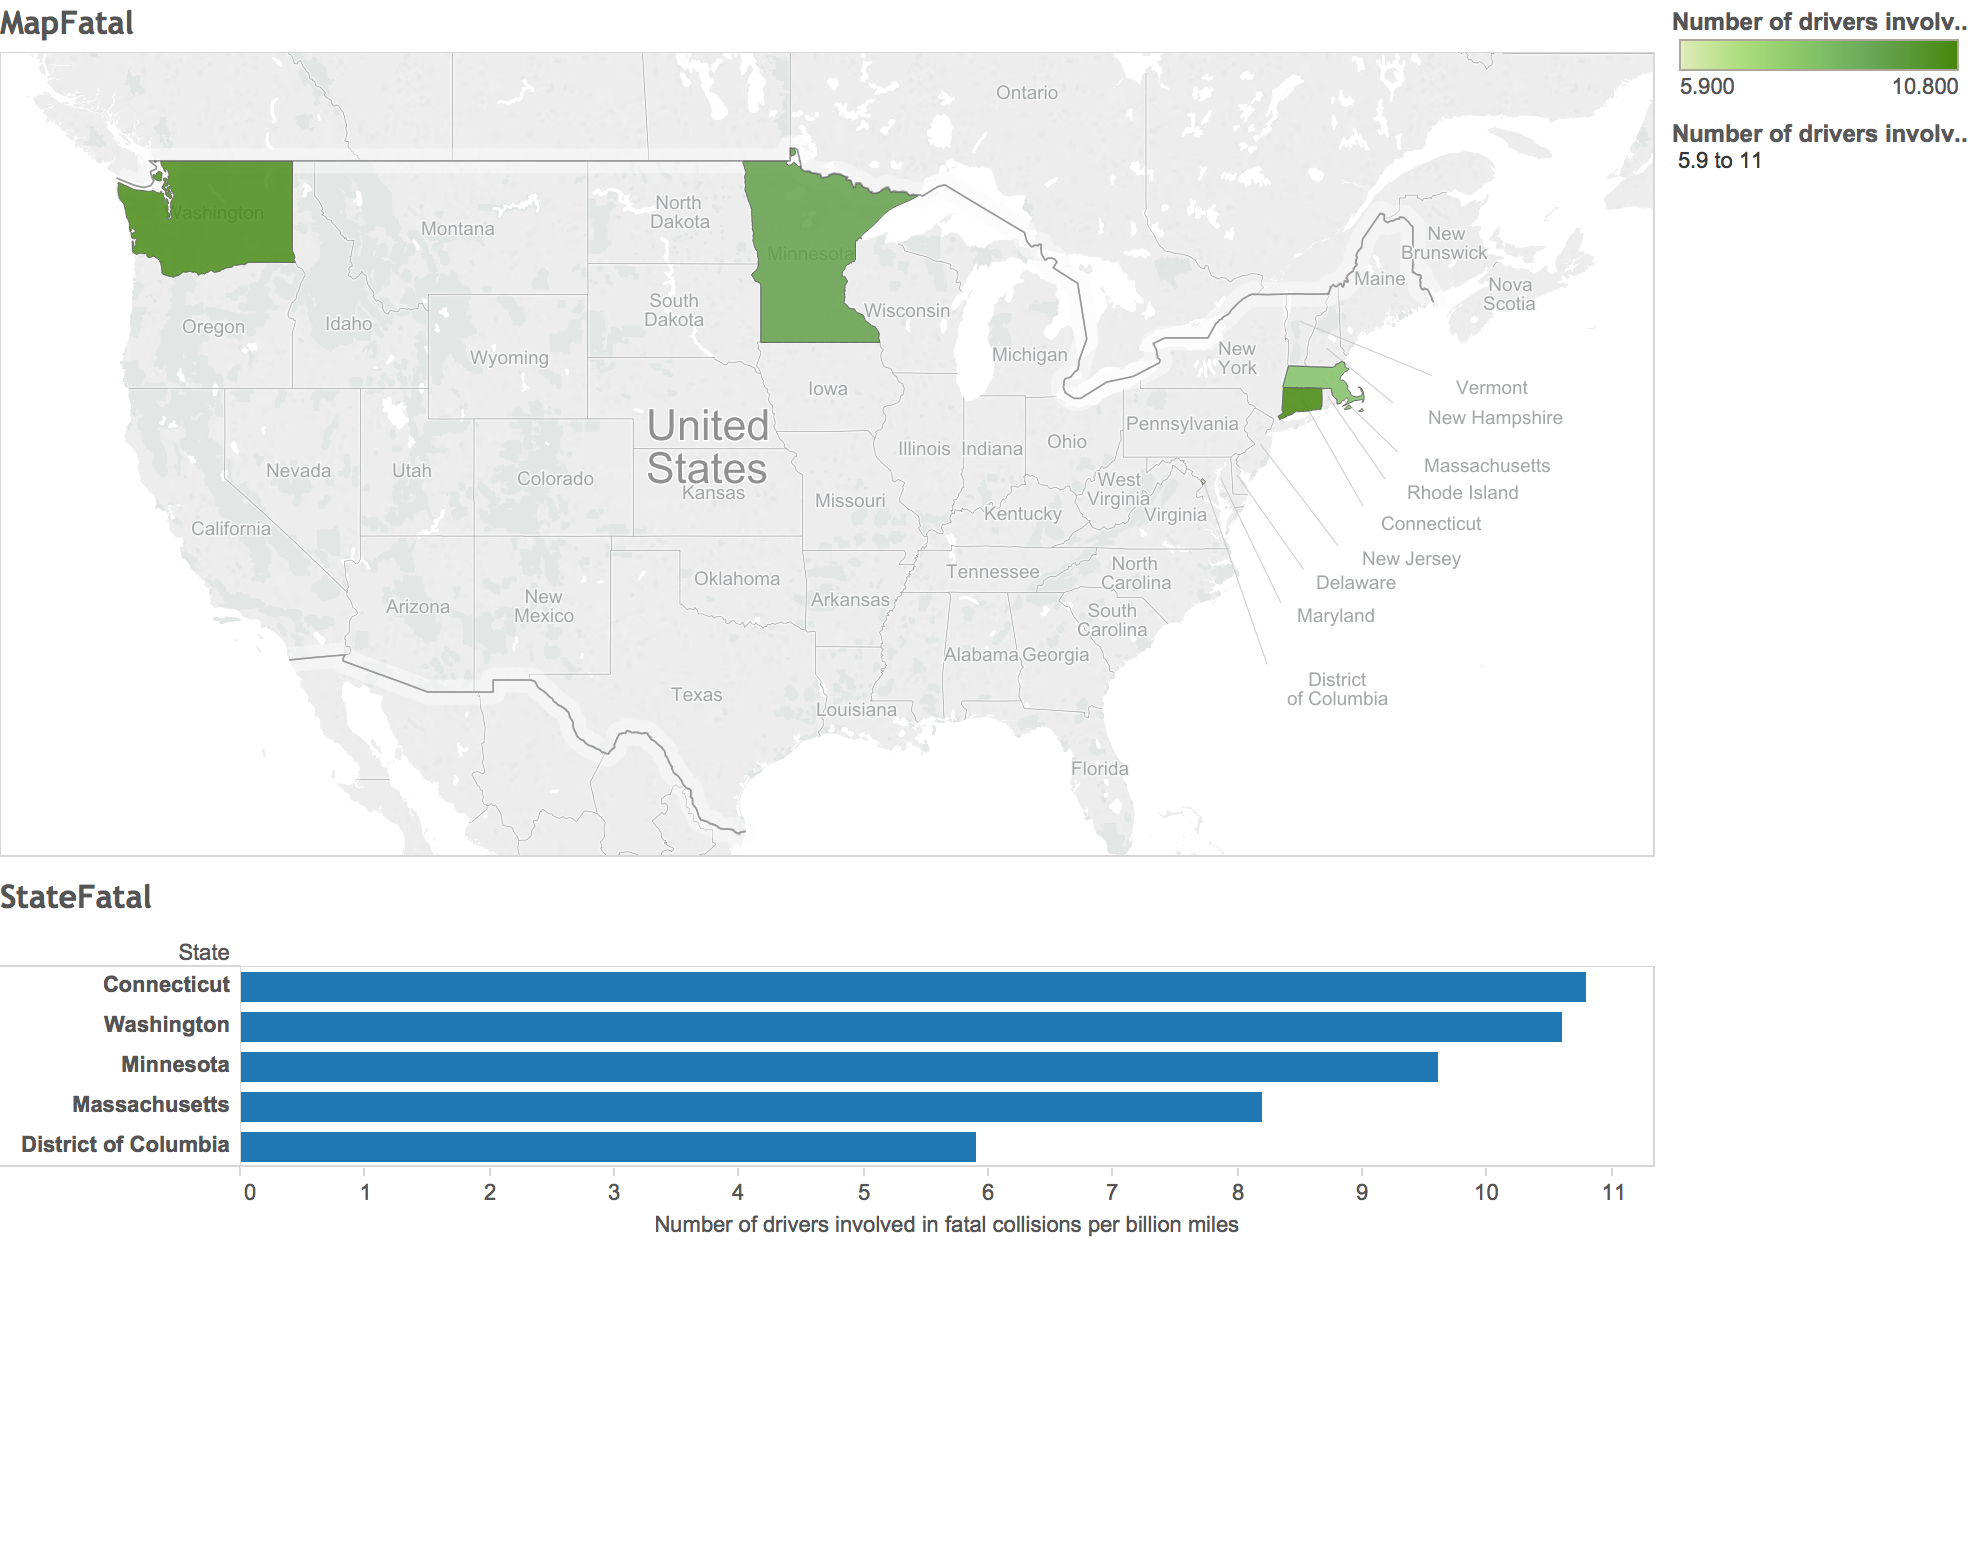

Layout of this report page (visuals, bound fields, positions):
{"tool":"tableau","page":{"name":"Dashboard 1","canvas":[1000,800],"ordinal":0},"visuals":[{"type":"worksheet","title":"MapFatal","mark":"Multipolygon","box":[0,0,840,441]},{"type":"legend","title":"MapFatal","param":"[textscan.0g8ufvw1q3f0x91awitfy1yd826i].[none:Number of drivers involved in fata","box":[840,0,160,62]},{"type":"filter","title":"StateFatal","param":"[textscan.0g8ufvw1q3f0x91awitfy1yd826i].[sum:Number of drivers involved in fatal","box":[840,62,160,66]},{"type":"worksheet","title":"StateFatal","mark":"Automatic","rows":["State"],"cols":["Number of drivers involved in fatal collisions per billion m"],"box":[0,441,840,359]}]}

Visuals, with their boxes in screenshot pixels (x1, y1, x2, y2), scaled from the page's 1000x800 canvas onto the 1968x1568 screenshot:
"MapFatal" worksheet (Multipolygon marks): l=0, t=0, r=1653, b=864
"MapFatal" legend: l=1653, t=0, r=1967, b=122
"StateFatal" filter: l=1653, t=122, r=1967, b=251
"StateFatal" worksheet: l=0, t=864, r=1653, b=1567
